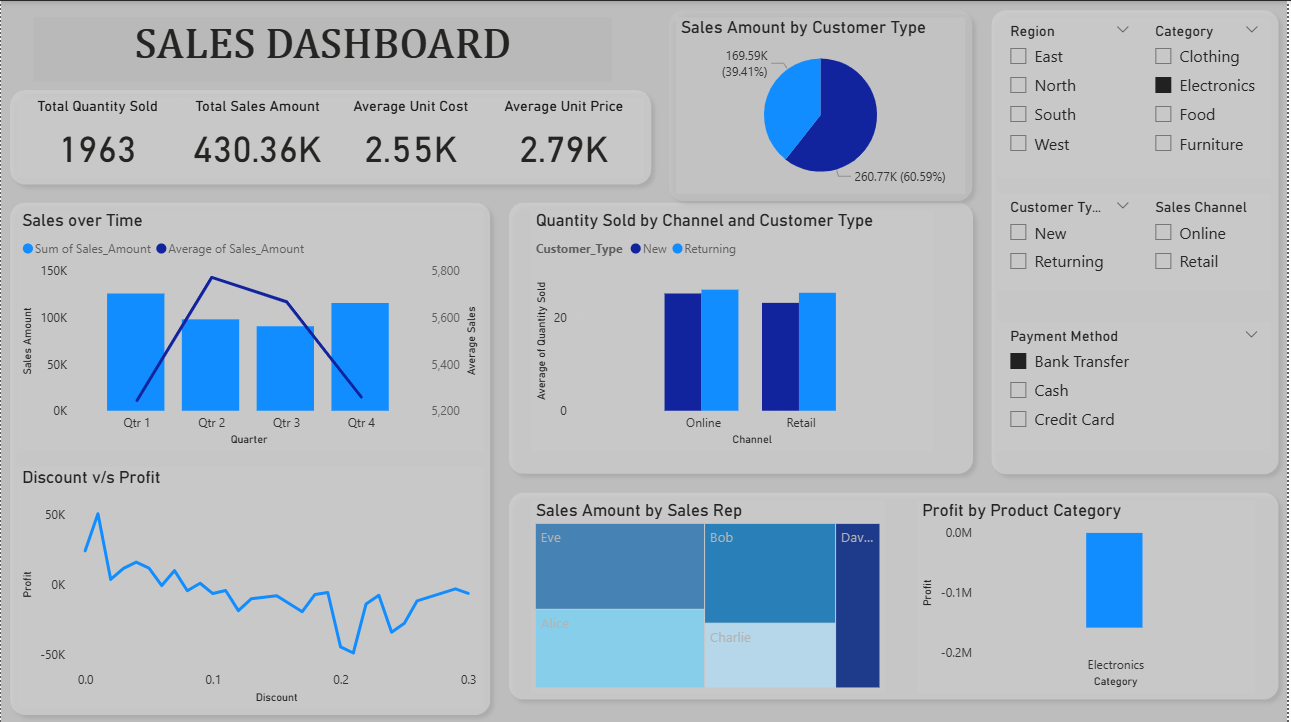

The dashboard page shown, as its layout file describes it:
{"tool":"powerbi","page":{"name":"Dashboard","canvas":[1280,720],"ordinal":0},"visuals":[{"type":"shape","box":[0,80,656,112],"z":0},{"type":"shape","box":[0,192,496,528],"z":1000},{"type":"shape","box":[496,192,480,288],"z":2000},{"type":"shape","box":[496,480,784,224],"z":3000},{"type":"shape","box":[976,0,304,480],"z":4000},{"type":"textbox","box":[32,16,576,64],"z":5000},{"type":"card","title":"Total Quantity Sold","fields":{"Values":["sales_data.Quantity_Sold"]},"box":[16,96,160,80],"z":6000},{"type":"card","title":"Total Sales Amount","fields":{"Values":["sales_data.Sales_Amount"]},"box":[176,96,160,80],"z":7000},{"type":"card","title":"Average Unit Cost","fields":{"Values":["sales_data.Unit_Cost"]},"box":[336,96,144,80],"z":8000},{"type":"card","title":"Average Unit Price","fields":{"Values":["sales_data.Unit_Price"]},"box":[480,96,160,80],"z":9000},{"type":"lineClusteredColumnComboChart","title":"Sales over Time","fields":{"Category":["sales_data.Sale_Date.Variation.Date Hierarchy.Quarter"],"Y":["sales_data.Sales_Amount"],"Y2":["sales_data.Sales_Amount"]},"box":[16,208,464,240],"z":10000},{"type":"lineChart","title":"Discount v/s Profit","fields":{"Y":["sales_data.Profit"],"Category":["sales_data.Discount"]},"box":[16,464,464,240],"z":11000},{"type":"slicer","fields":{"Values":["sales_data.Customer_Type"]},"box":[992,192,144,96],"z":12000},{"type":"slicer","fields":{"Values":["sales_data.Sales_Channel"]},"box":[1136,192,128,96],"z":13000},{"type":"slicer","fields":{"Values":["sales_data.Payment_Method"]},"box":[992,320,272,128],"z":14000},{"type":"slicer","fields":{"Values":["sales_data.Product_Category"]},"box":[1136,16,128,160],"z":15000},{"type":"slicer","fields":{"Values":["sales_data.Region"]},"box":[992,16,144,160],"z":16000},{"type":"clusteredColumnChart","title":"Quantity Sold by Channel and Customer Type","fields":{"Category":["sales_data.Sales_Channel"],"Series":["sales_data.Customer_Type"],"Y":["sales_data.Quantity_Sold"]},"box":[528,208,400,240],"z":17000},{"type":"columnChart","title":"Profit by Product Category","fields":{"Category":["sales_data.Product_Category"],"Y":["sales_data.Profit"]},"box":[912,496,336,192],"z":19000},{"type":"treemap","title":"Sales Amount by Sales Rep","fields":{"Group":["sales_data.Sales_Rep"],"Values":["sales_data.Sales_Amount"]},"box":[528,496,352,192],"z":20001},{"type":"shape","box":[656,0,320,208],"z":20002},{"type":"pieChart","title":"Sales Amount by Customer Type","fields":{"Category":["sales_data.Customer_Type"],"Y":["sales_data.Sales_Amount"]},"box":[672,16,288,176],"z":20003}]}

Visuals, with their boxes in screenshot pixels (x1, y1, x2, y2), scaled from the page's 1280x720 canvas onto the 1291x722 screenshot:
shape: [0, 80, 662, 193]
shape: [0, 193, 500, 721]
shape: [500, 193, 984, 481]
shape: [500, 481, 1290, 706]
shape: [984, 0, 1290, 481]
textbox: [32, 16, 613, 80]
"Total Quantity Sold" card: [16, 96, 178, 176]
"Total Sales Amount" card: [178, 96, 339, 176]
"Average Unit Cost" card: [339, 96, 484, 176]
"Average Unit Price" card: [484, 96, 646, 176]
"Sales over Time" lineClusteredColumnComboChart: [16, 209, 484, 449]
"Discount v/s Profit" lineChart: [16, 465, 484, 706]
slicer - sales_data.Customer_Type: [1001, 193, 1146, 289]
slicer - sales_data.Sales_Channel: [1146, 193, 1275, 289]
slicer - sales_data.Payment_Method: [1001, 321, 1275, 449]
slicer - sales_data.Product_Category: [1146, 16, 1275, 176]
slicer - sales_data.Region: [1001, 16, 1146, 176]
"Quantity Sold by Channel and Customer Type" clusteredColumnChart: [533, 209, 936, 449]
"Profit by Product Category" columnChart: [920, 497, 1259, 690]
"Sales Amount by Sales Rep" treemap: [533, 497, 888, 690]
shape: [662, 0, 984, 209]
"Sales Amount by Customer Type" pieChart: [678, 16, 968, 193]
